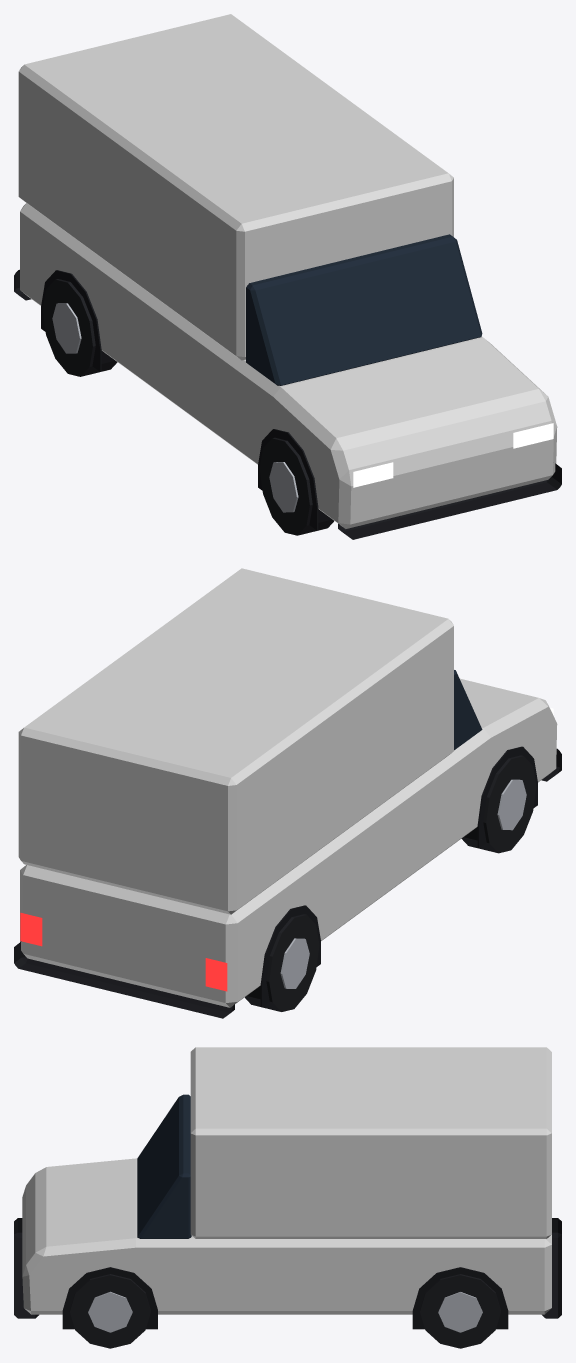
File: van.glb
3 renders of one model, top to bottom at view 1: azimuth 30°, elevation 25°; view 2: azimuth 150°, elevation 25°; view 3: azimuth 270°, elevation 25°, orthographic. The views are drawn at different scales.
Parts seen in each view (by area): view 1: box, tub, cab, wheel_RL, wheel_FL, bumper_f, wheel_FL_hub, wheel_RL_hub, arch_+1.8_-1, arch_-1.7_-1, lamp_head_R, lamp_head_L; view 2: box, tub, wheel_RL, wheel_FL, bumper_r, cab, wheel_FL_hub, wheel_RL_hub, arch_+1.8_-1, arch_-1.7_-1, lamp_tail_L, lamp_tail_R; view 3: box, tub, cab, wheel_FR, wheel_RR, arch_-1.7_1, arch_+1.8_1, wheel_FR_hub, wheel_RR_hub, bumper_r, bumper_f.
Part boxes in pixels (left/top/right/bottom): box: left=18, top=14, right=453, bottom=360; tub: left=20, top=203, right=557, bottom=528; cab: left=246, top=234, right=482, bottom=385; wheel_RL: left=42, top=279, right=117, bottom=376; wheel_FL: left=259, top=437, right=333, bottom=535; bumper_f: left=338, top=463, right=561, bottom=539; wheel_FL_hub: left=269, top=462, right=298, bottom=512; wheel_RL_hub: left=52, top=303, right=81, bottom=353; arch_+1.8_-1: left=258, top=429, right=318, bottom=530; arch_-1.7_-1: left=41, top=270, right=101, bottom=371; lamp_head_R: left=513, top=423, right=553, bottom=448; lamp_head_L: left=353, top=462, right=393, bottom=487; box: left=18, top=568, right=453, bottom=914; tub: left=20, top=678, right=557, bottom=1007; wheel_RL: left=245, top=914, right=319, bottom=1011; wheel_FL: left=461, top=755, right=536, bottom=853; bumper_r: left=14, top=941, right=234, bottom=1018; cab: left=454, top=670, right=482, bottom=750; wheel_FL_hub: left=497, top=779, right=526, bottom=830; wheel_RL_hub: left=280, top=938, right=309, bottom=988; arch_+1.8_-1: left=477, top=746, right=537, bottom=848; arch_-1.7_-1: left=260, top=905, right=320, bottom=1006; lamp_tail_L: left=205, top=958, right=227, bottom=991; lamp_tail_R: left=20, top=912, right=42, bottom=946; box: left=190, top=1047, right=551, bottom=1238; tub: left=22, top=1158, right=551, bottom=1314; cab: left=137, top=1094, right=191, bottom=1238; wheel_FR: left=69, top=1274, right=150, bottom=1348; wheel_RR: left=420, top=1274, right=500, bottom=1348; arch_-1.7_1: left=412, top=1267, right=508, bottom=1329; arch_+1.8_1: left=62, top=1267, right=157, bottom=1329; wheel_FR_hub: left=88, top=1291, right=132, bottom=1332; wheel_RR_hub: left=438, top=1292, right=482, bottom=1332; bumper_r: left=542, top=1218, right=561, bottom=1318; bumper_f: left=14, top=1218, right=38, bottom=1318.
Bounding box in the file's own units: 2.11 × 2.35 × 5.4.
